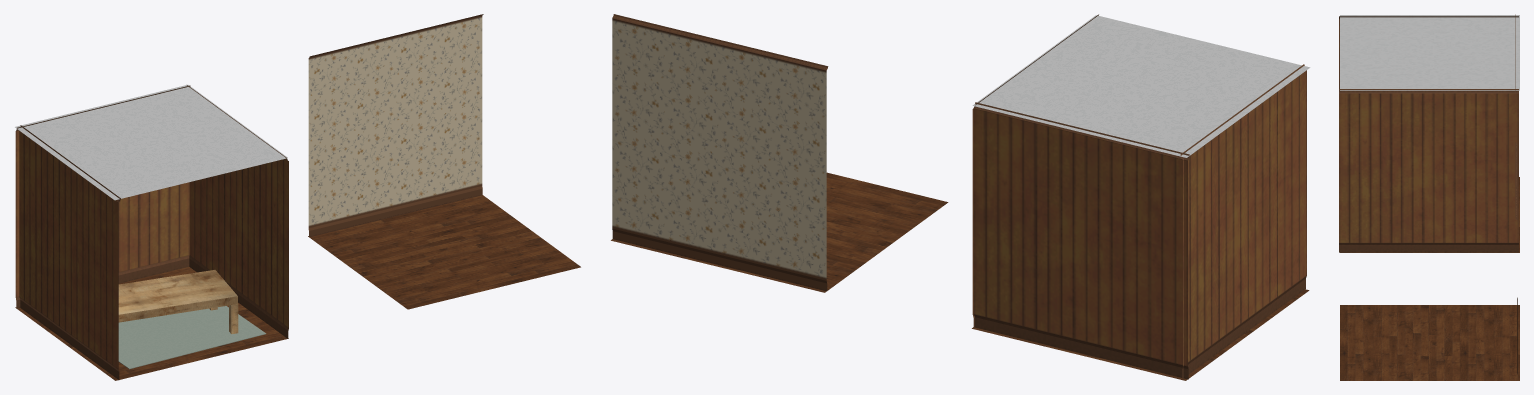
File: Houselayout_rendertexturetest.fbx
3 renders of one model, left to right at view 1: azimuth 30°, elevation 25°; view 2: azimuth 150°, elevation 25°; view 3: azimuth 270°, elevation 25°, orthographic. The views are drawn at different scales.
Parts seen in each view (by area): view 1: Plane.001, Plane.004, Plane.009, Plane.007, Plane.005, Plane.006, Plane.003, Cube.001, Plane.008; view 2: Plane.001, Plane.006, Plane.004, Plane.009, Plane.007, Plane.008, Plane.005; view 3: Plane.005, Plane.007, Plane.009, Plane.004, Plane.001, Plane.008.
Boxes of the visible parts, x1,y1,x2,y2 form: Plane.001: (308, 14, 483, 237); Plane.004: (19, 125, 120, 379); Plane.009: (15, 84, 287, 200); Plane.007: (308, 195, 580, 309); Plane.005: (187, 85, 288, 338); Plane.006: (15, 85, 190, 308); Plane.003: (118, 306, 266, 369); Cube.001: (118, 270, 237, 322); Plane.008: (15, 267, 288, 380); Plane.001: (612, 14, 828, 291); Plane.006: (973, 102, 1189, 379); Plane.004: (1180, 64, 1306, 378); Plane.009: (972, 15, 1310, 157); Plane.007: (611, 172, 948, 292); Plane.008: (972, 289, 1309, 380); Plane.005: (972, 14, 1098, 327); Plane.005: (1339, 89, 1518, 252); Plane.007: (1340, 305, 1519, 380); Plane.009: (1340, 15, 1519, 90); Plane.004: (1339, 16, 1518, 88); Plane.001: (1515, 142, 1517, 373); Plane.008: (1340, 177, 1519, 252).
Bounding box in the file's own units: 5.37 × 2.01 × 2.01.
